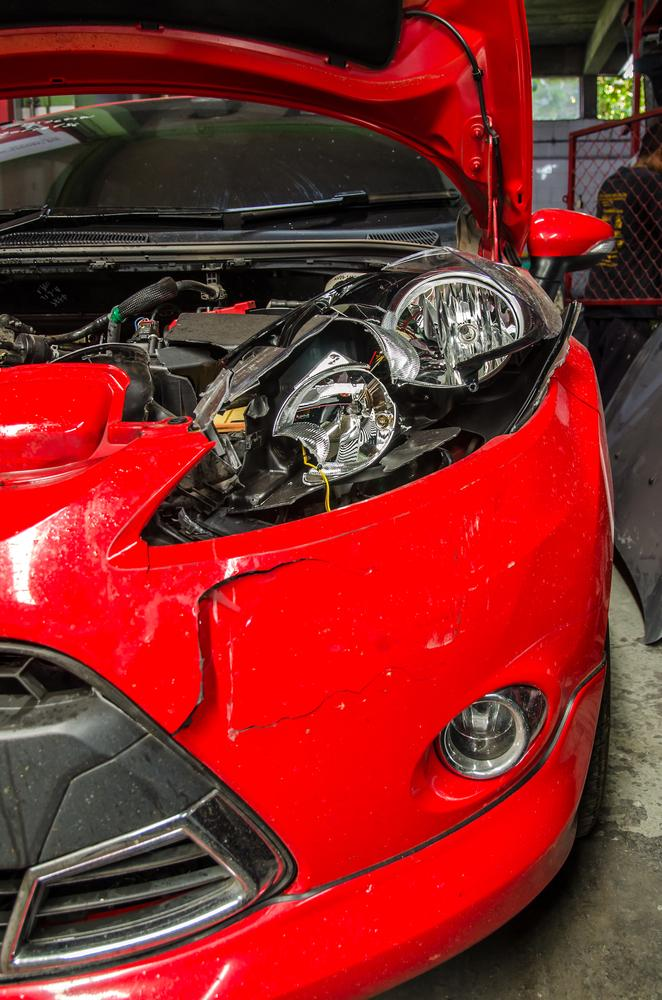crack: (169, 556, 368, 740), (229, 665, 438, 736)
lamp broken: (137, 252, 564, 548)
